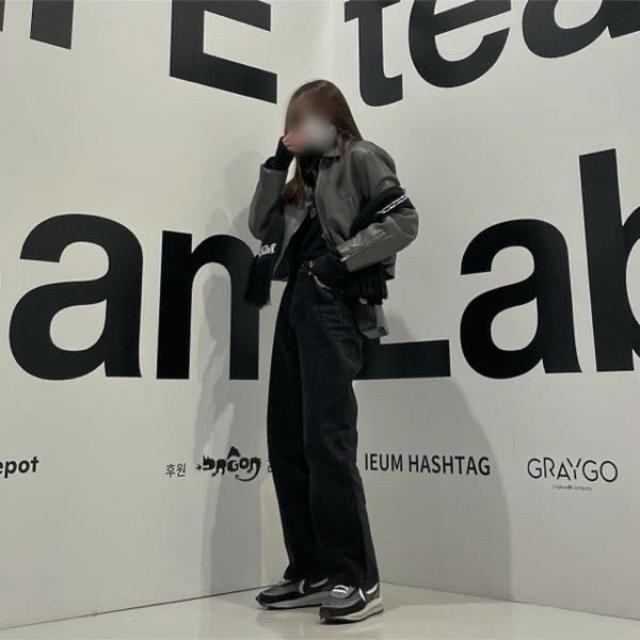denimpants: (268, 265, 383, 591)
jacket: (249, 134, 419, 300)
